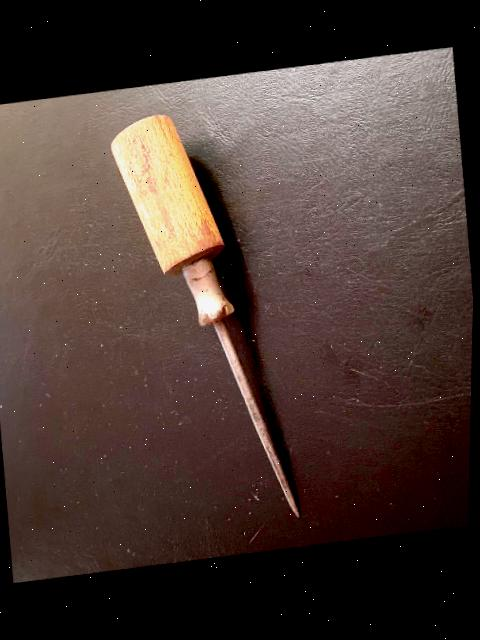ice pick: (103, 101, 312, 538)
